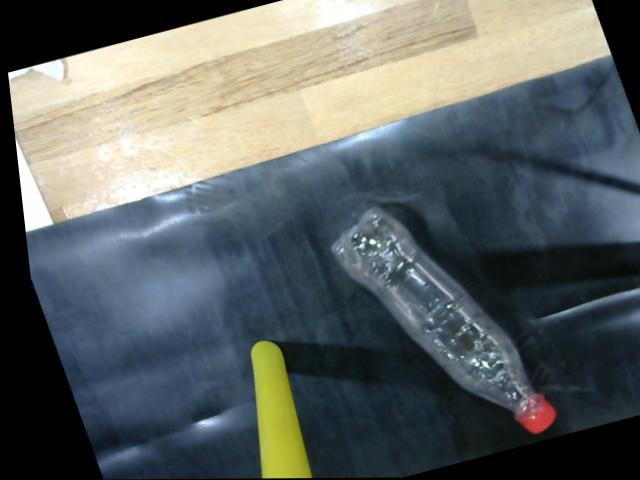bottle: (315, 204, 556, 444)
